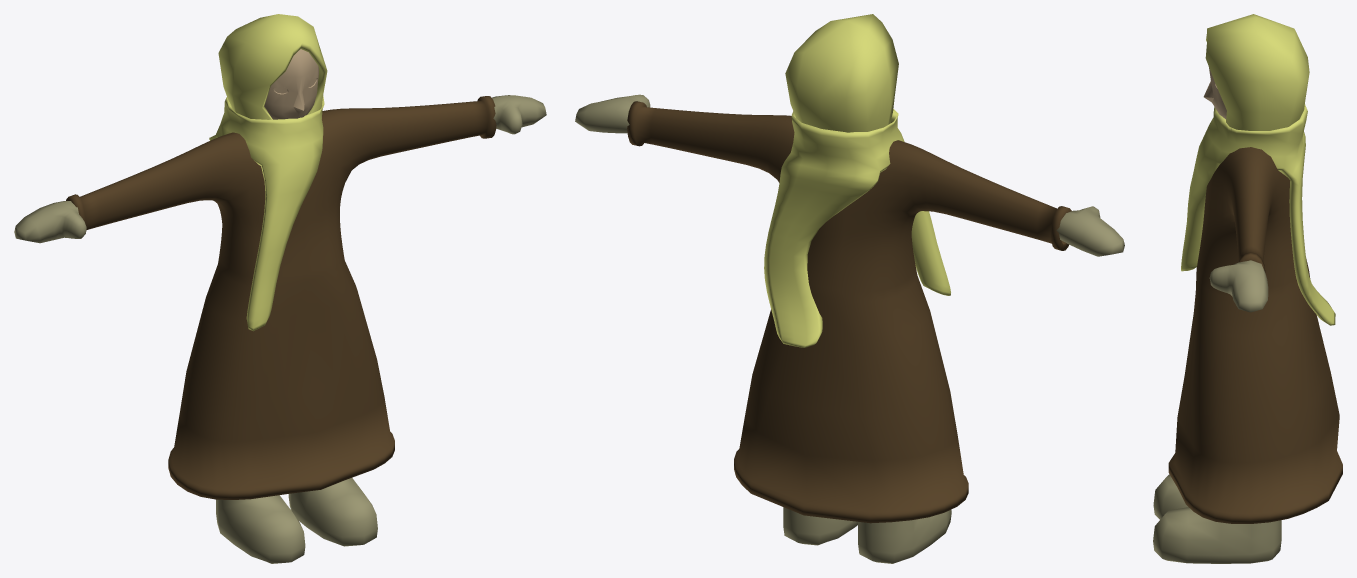
File: бабуля_для юнити.fbx
3 views of the same model, side by side, from view 1: azimuth 30°, elevation 25°; view 2: azimuth 150°, elevation 25°; view 3: azimuth 270°, elevation 25° (orthographic). The views are drawn at different scales.
Visible parts, largest first — view 1: shuba, scarf_1, boots, scarf, gloves, body; view 2: shuba, scarf_1, scarf, boots, gloves; view 3: shuba, scarf, scarf_1, boots, gloves, body.
Boxes of the visible parts, x1=… form: shuba: x1=66, y1=96, x2=496, y2=499; scarf_1: x1=209, y1=96, x2=324, y2=331; boots: x1=216, y1=478, x2=377, y2=563; scarf: x1=218, y1=14, x2=327, y2=119; gloves: x1=14, y1=95, x2=546, y2=243; body: x1=264, y1=49, x2=318, y2=119; shuba: x1=627, y1=101, x2=1071, y2=523; scarf_1: x1=764, y1=109, x2=950, y2=347; scarf: x1=785, y1=14, x2=898, y2=132; boots: x1=783, y1=507, x2=951, y2=563; gloves: x1=575, y1=94, x2=1124, y2=256; shuba: x1=1168, y1=147, x2=1342, y2=523; scarf: x1=1205, y1=14, x2=1309, y2=131; scarf_1: x1=1181, y1=104, x2=1335, y2=325; boots: x1=1153, y1=474, x2=1281, y2=563; gloves: x1=1209, y1=260, x2=1268, y2=312; body: x1=1203, y1=67, x2=1226, y2=119.
Bounding box in the file's own units: 1639 × 1509 × 499.
